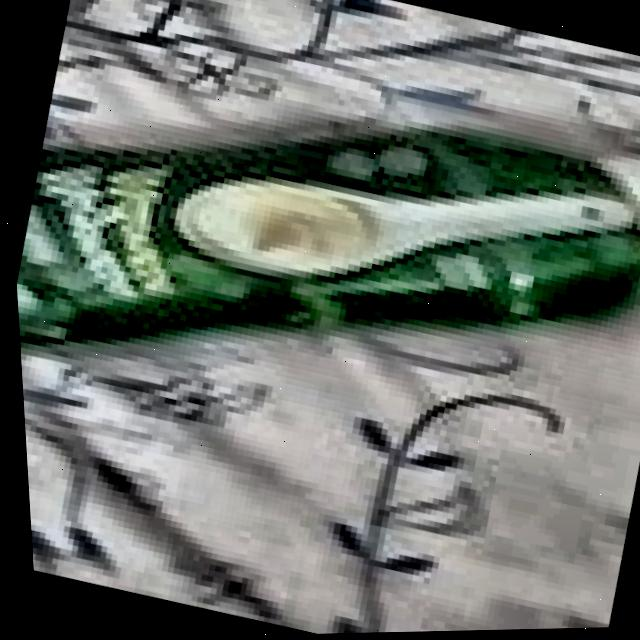plastic: (0, 0, 640, 502)
